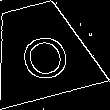O_N: (11, 21, 71, 81)
